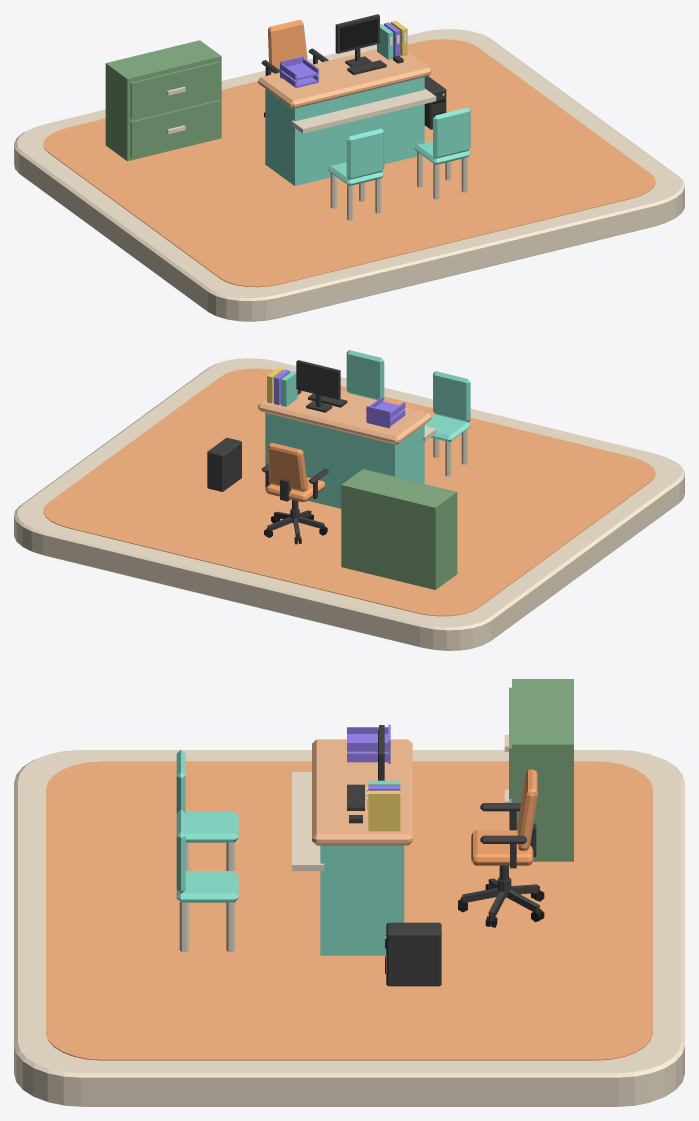
The picture shows the model from 3 angles, top to bottom: view 1: azimuth 30°, elevation 25°; view 2: azimuth 150°, elevation 25°; view 3: azimuth 270°, elevation 25°; orthographic projection. The views are drawn at different scales.
Parts seen in each view (by area): view 1: COM-02 Floor Surface, COM-01 Rounded Base Direct, Cabinet, Counter body, Countertop, Visitor shelf, COM-04_Chair_blender_direct, Backrest, Backrest.001, Frame, Tower, Seat (+1 smaller); view 2: COM-02 Floor Surface, COM-01 Rounded Base Direct, Cabinet, Counter body, Countertop, COM-04_Chair_blender_direct, Backrest.001, Backrest, Frame, Tower, Seat, File; view 3: COM-02 Floor Surface, COM-01 Rounded Base Direct, Cabinet, Counter body, Countertop, COM-04_Chair_blender_direct, Tower, Visitor shelf, Seat.001, Seat, File.002, Backrest.001.
Boxes of the visible parts, <box> form: COM-02 Floor Surface: <box>43,39,655,287</box>; COM-01 Rounded Base Direct: <box>14,29,684,321</box>; Cabinet: <box>105,40,221,161</box>; Counter body: <box>265,77,424,185</box>; Countertop: <box>258,49,431,108</box>; Visitor shelf: <box>291,88,436,133</box>; COM-04_Chair_blender_direct: <box>261,20,328,117</box>; Backrest: <box>346,128,384,179</box>; Backrest.001: <box>433,107,470,158</box>; Frame: <box>335,14,379,66</box>; Tower: <box>424,76,446,129</box>; Seat: <box>328,162,384,185</box>; COM-02 Floor Surface: <box>43,368,655,616</box>; COM-01 Rounded Base Direct: <box>14,358,684,650</box>; Cabinet: <box>341,469,457,589</box>; Counter body: <box>265,413,424,508</box>; Countertop: <box>258,390,431,444</box>; COM-04_Chair_blender_direct: <box>261,442,328,544</box>; Backrest.001: <box>346,350,384,399</box>; Backrest: <box>433,371,470,422</box>; Frame: <box>296,360,340,412</box>; Tower: <box>207,437,241,491</box>; Seat: <box>424,414,470,442</box>; File: <box>281,371,297,406</box>; COM-02 Floor Surface: <box>46,761,652,1060</box>; COM-01 Rounded Base Direct: <box>14,750,684,1106</box>; Cabinet: <box>504,679,573,861</box>; Counter body: <box>320,845,404,955</box>; Countertop: <box>312,739,412,845</box>; COM-04_Chair_blender_direct: <box>458,769,544,927</box>; Tower: <box>386,922,441,986</box>; Visitor shelf: <box>292,772,324,871</box>; Seat.001: <box>176,871,238,902</box>; Seat: <box>185,811,238,842</box>; File.002: <box>368,790,400,831</box>; Backrest.001: <box>176,810,185,893</box>.
Bounding box in the file's own units: 6 × 1.87 × 5.2.
Materials: 1 (1 with a texture image).
